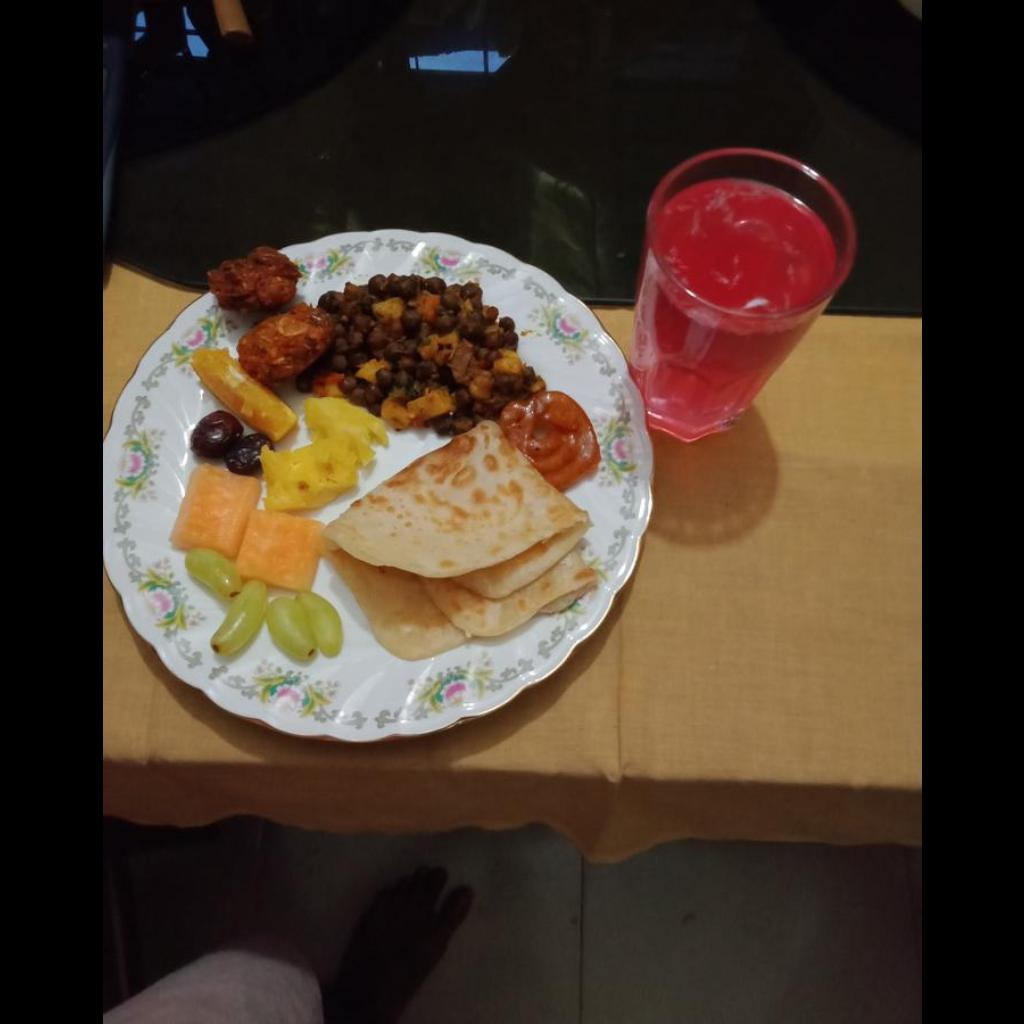chola: (295, 273, 541, 436)
dates: (188, 412, 267, 474)
grapes: (184, 550, 341, 662)
jilapi: (498, 391, 598, 490)
juice: (654, 186, 837, 320)
lemon: (190, 347, 295, 443)
mango: (170, 463, 322, 591)
pineapple: (259, 397, 386, 511)
piyaju: (207, 247, 332, 388)
ruti: (325, 424, 599, 667)
